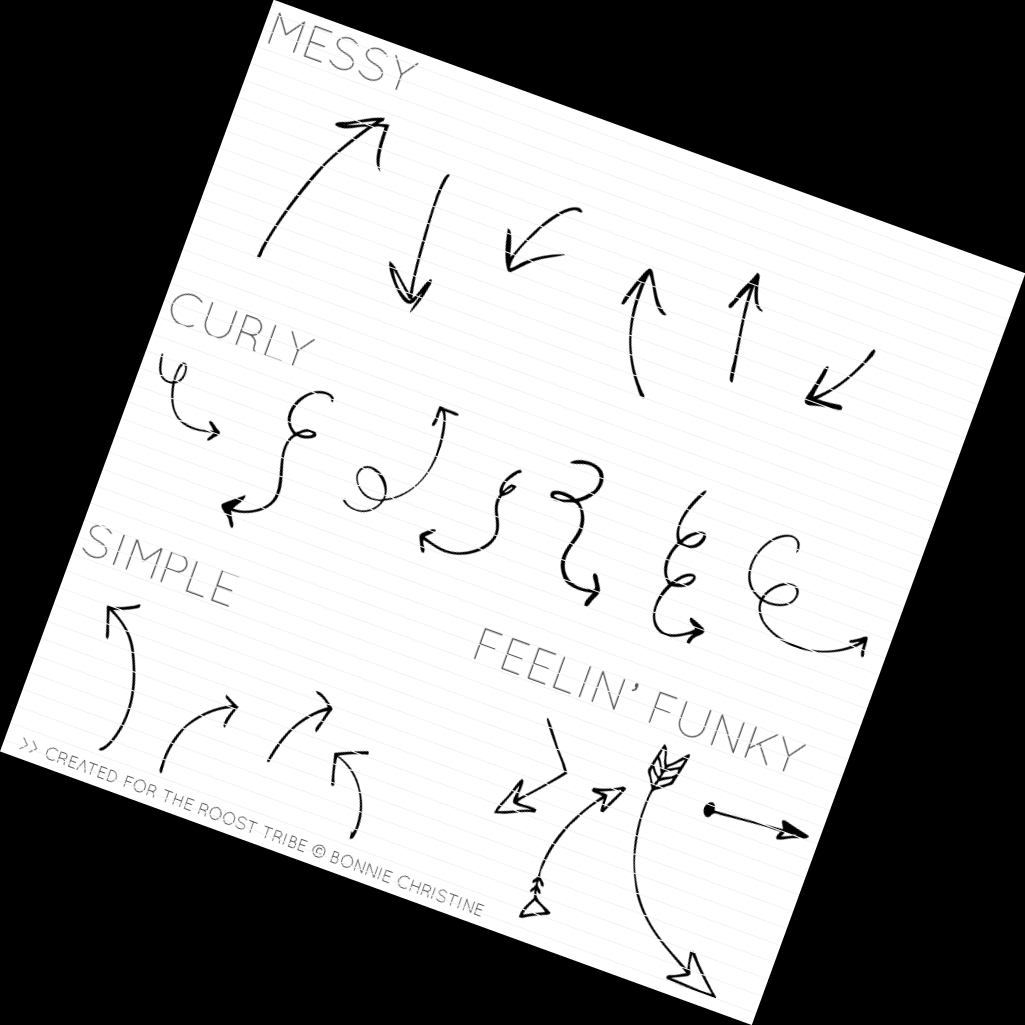arrow: (302, 114, 393, 185), (615, 260, 670, 369), (643, 932, 725, 1002), (498, 205, 568, 285), (382, 227, 442, 314), (797, 354, 871, 413), (725, 266, 768, 361), (492, 767, 564, 819), (97, 599, 144, 677), (422, 400, 463, 486), (413, 519, 482, 565), (326, 749, 371, 813), (217, 482, 274, 530), (179, 692, 239, 737), (555, 562, 609, 611), (285, 691, 336, 741), (814, 629, 873, 668), (752, 808, 808, 848), (648, 614, 712, 648), (176, 405, 224, 447)
